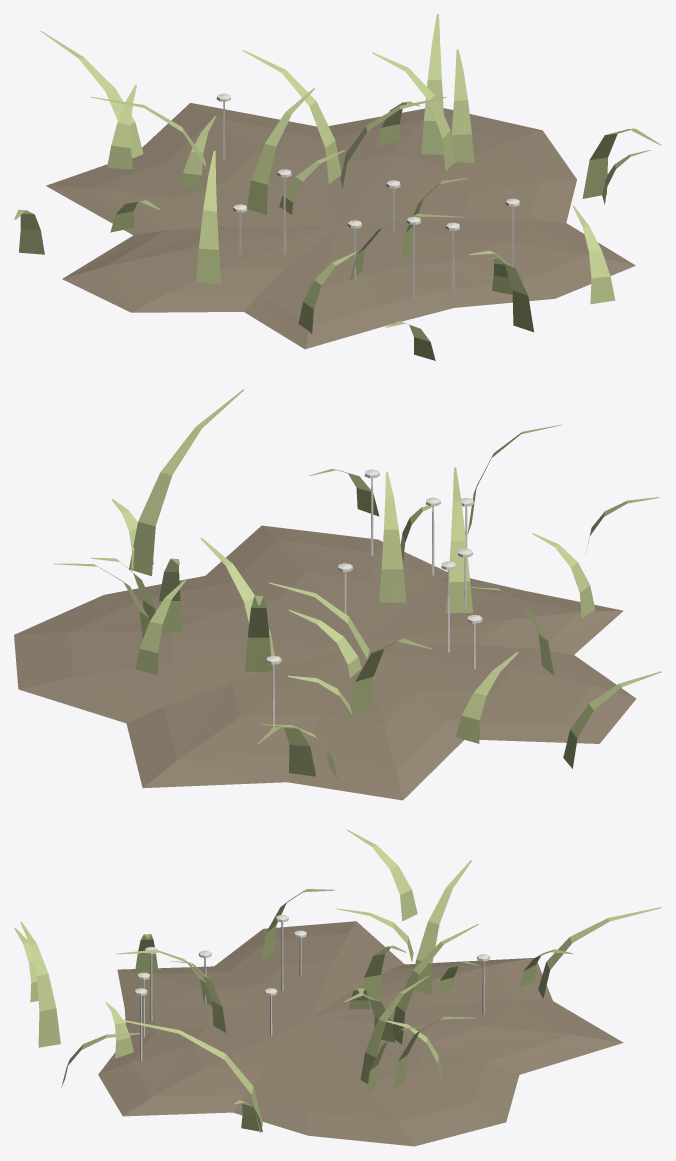
Rendered from dense-temperate-forest-flora-wild-garlic-patch-3953f820__28382.glb.
3 views of the same model, one above another, from view 1: azimuth 30°, elevation 25°; view 2: azimuth 150°, elevation 25°; view 3: azimuth 270°, elevation 25° (orthographic). The views are drawn at different scales.
Visible parts, largest first — view 1: wild-garlic-patch; view 2: wild-garlic-patch; view 3: wild-garlic-patch.
Boxes of the visible parts, x1,y1,x2,y2 form: wild-garlic-patch: [14, 14, 661, 360]; wild-garlic-patch: [14, 389, 661, 800]; wild-garlic-patch: [14, 829, 661, 1146].
Bounding box in the file's own units: 1.95 × 0.3853 × 2.12.
